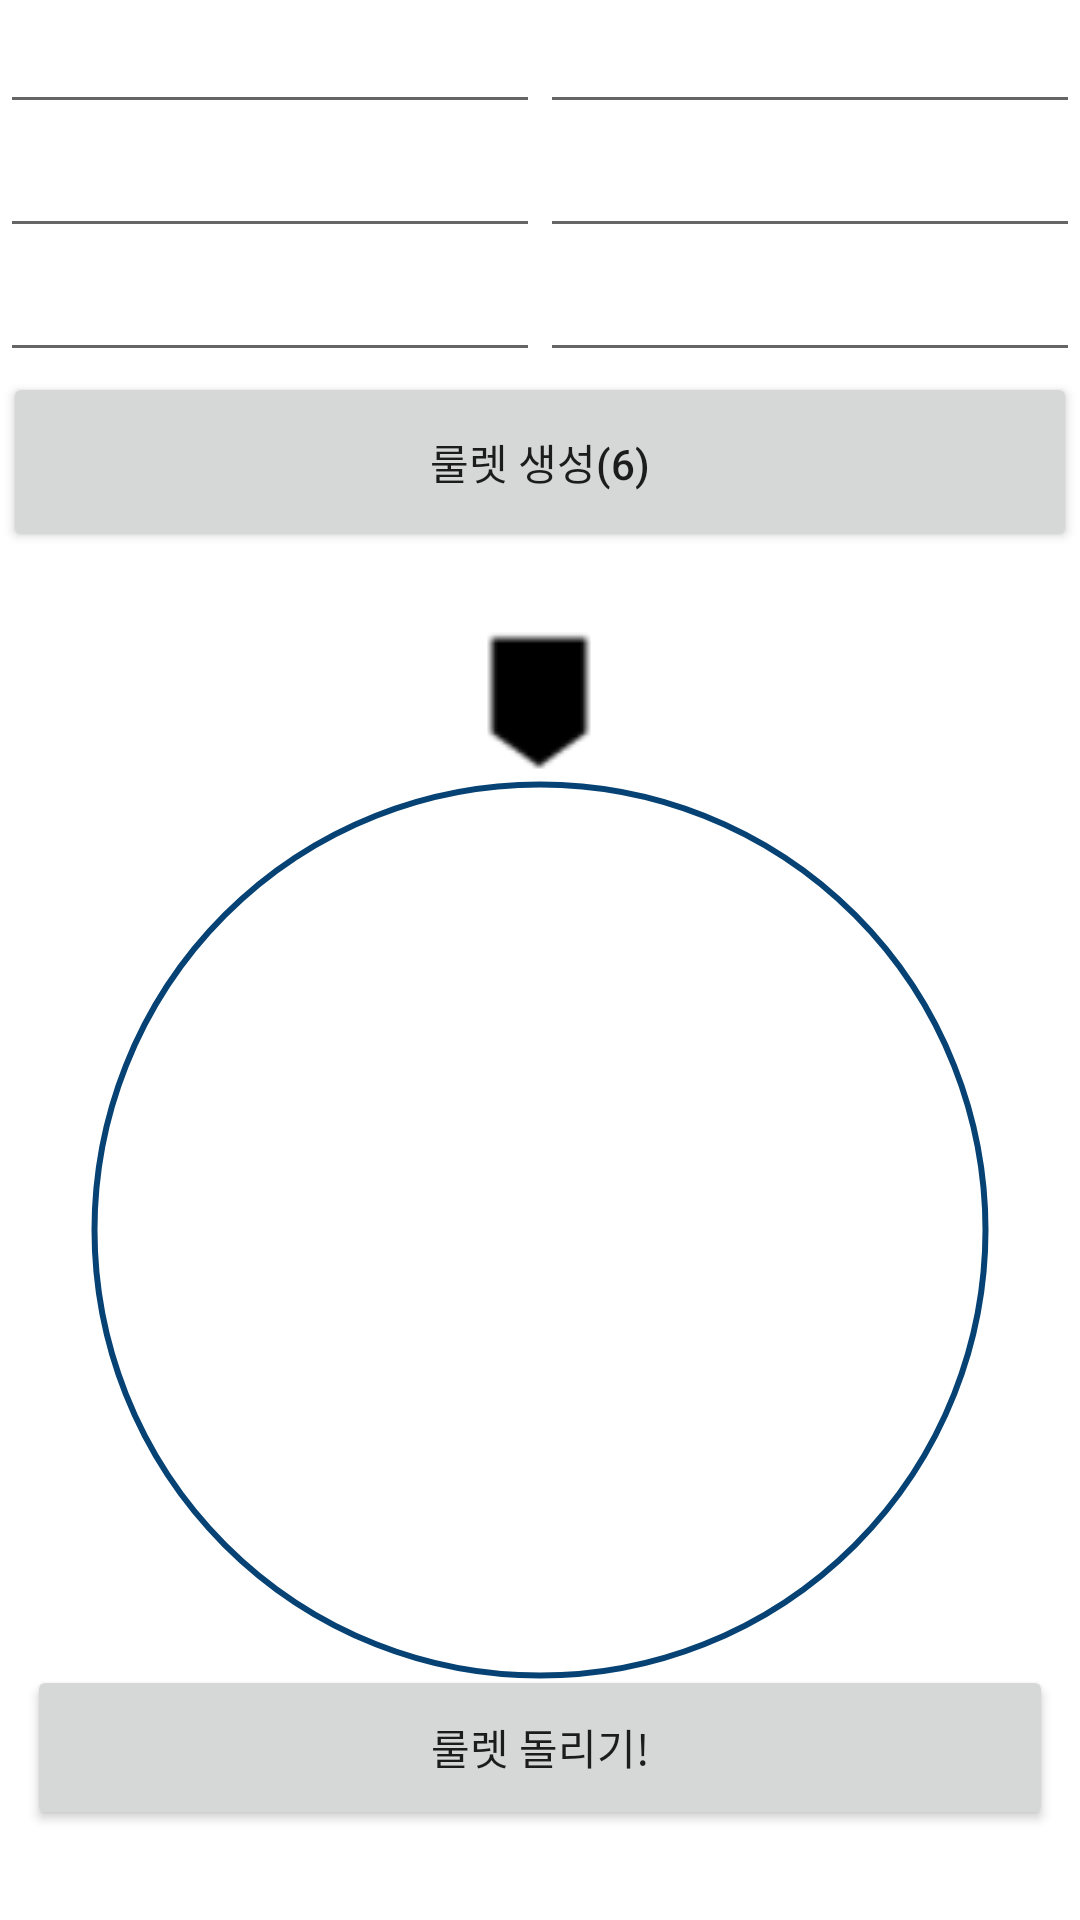

Named icons in this screenshot (1080w x 1920h) and their centers, [x,y]:
point: [539,702]
